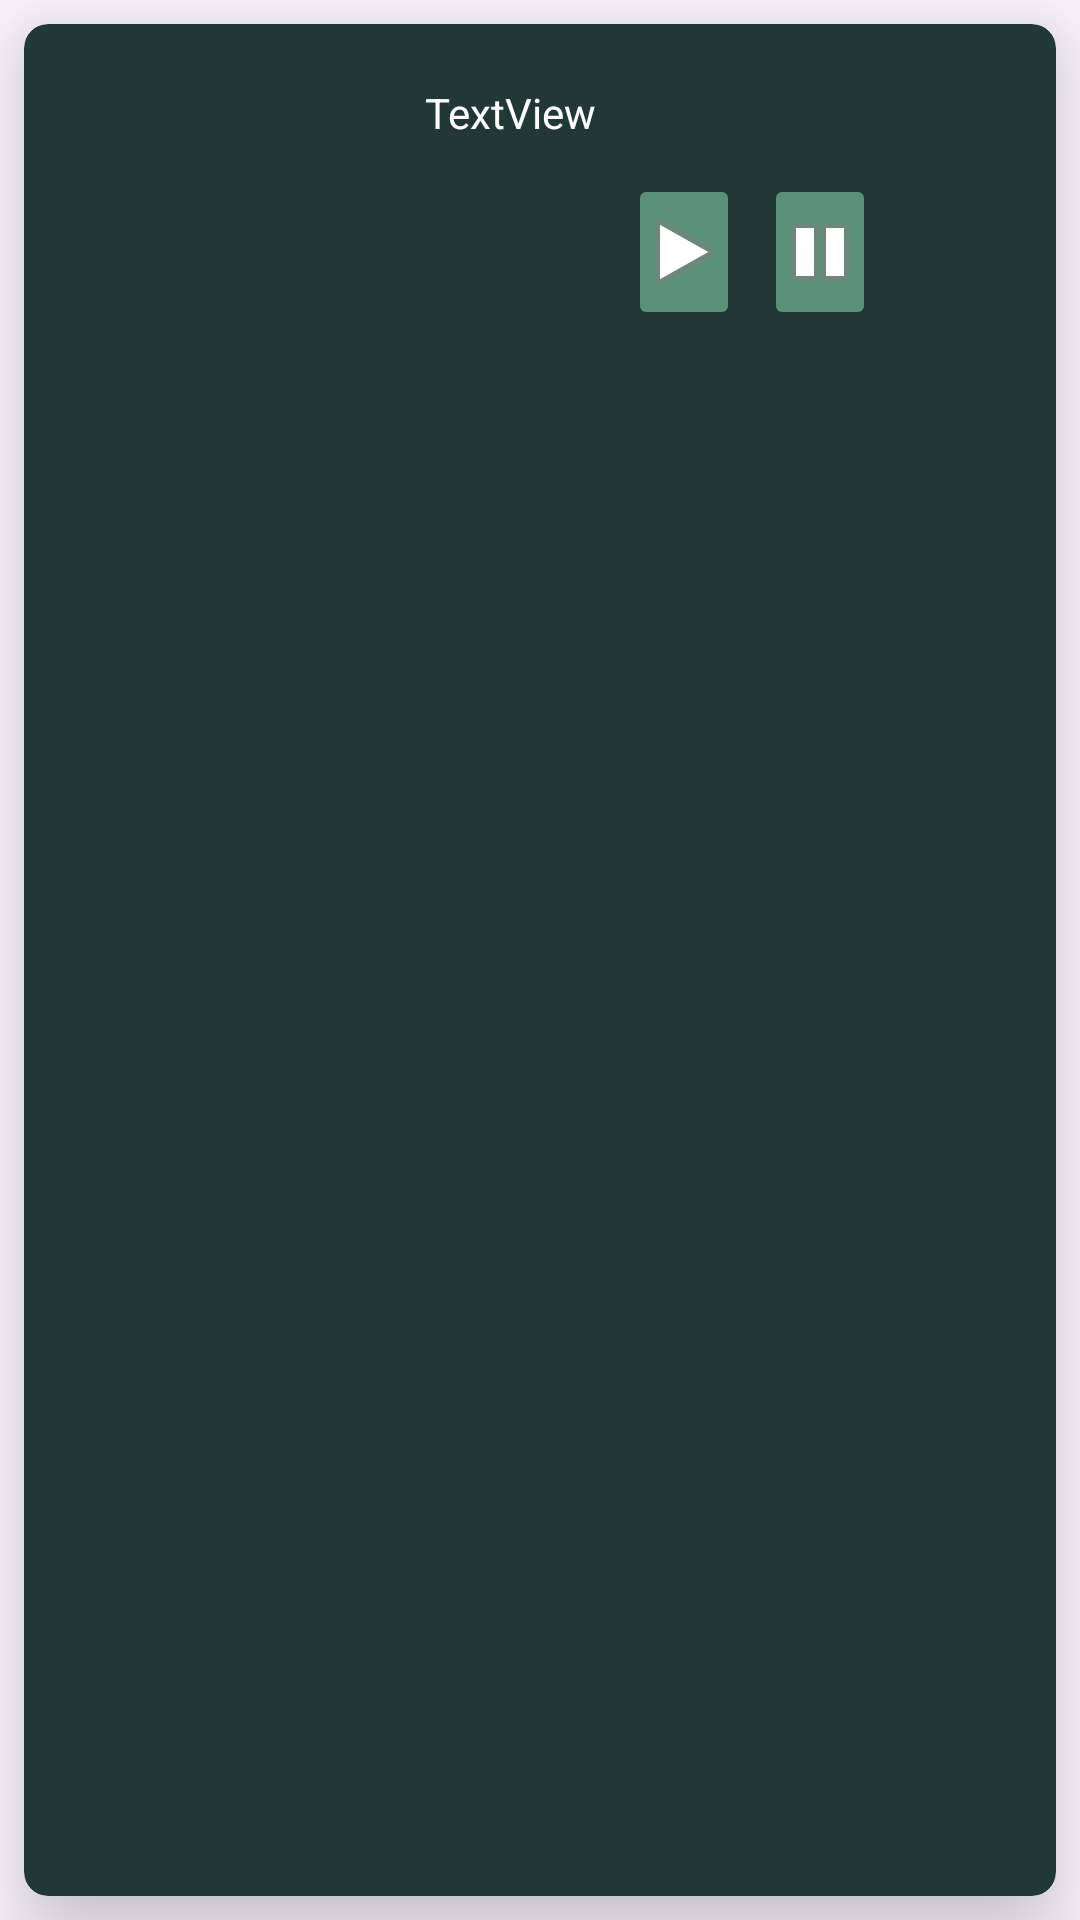

Screen size 1080px x 1920px. Icon name, then its box in pixels as (x1,y1,x2,y2):
pause: (776,192,864,312)
play: (640,192,728,312)
